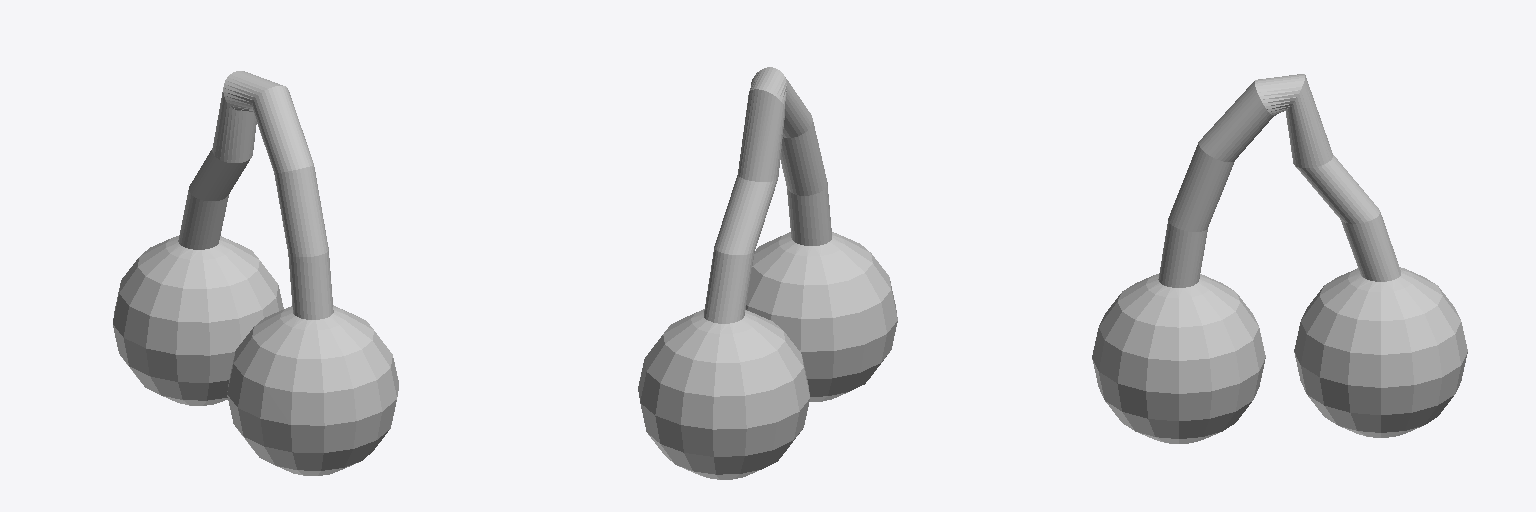
Rendered from Cherry.obj.
3 views of the same model, side by side, from view 1: azimuth 30°, elevation 25°; view 2: azimuth 150°, elevation 25°; view 3: azimuth 270°, elevation 25° (orthographic).
Visible parts, largest first — view 1: Cylinder.001; view 2: Cylinder.001; view 3: Cylinder.001.
Part boxes in pixels (x1,y1,x2,y2): Cylinder.001: (113, 71, 398, 475); Cylinder.001: (638, 67, 897, 479); Cylinder.001: (1092, 74, 1467, 443).
Bounding box in the file's own units: 2.18 × 4.5 × 4.32.